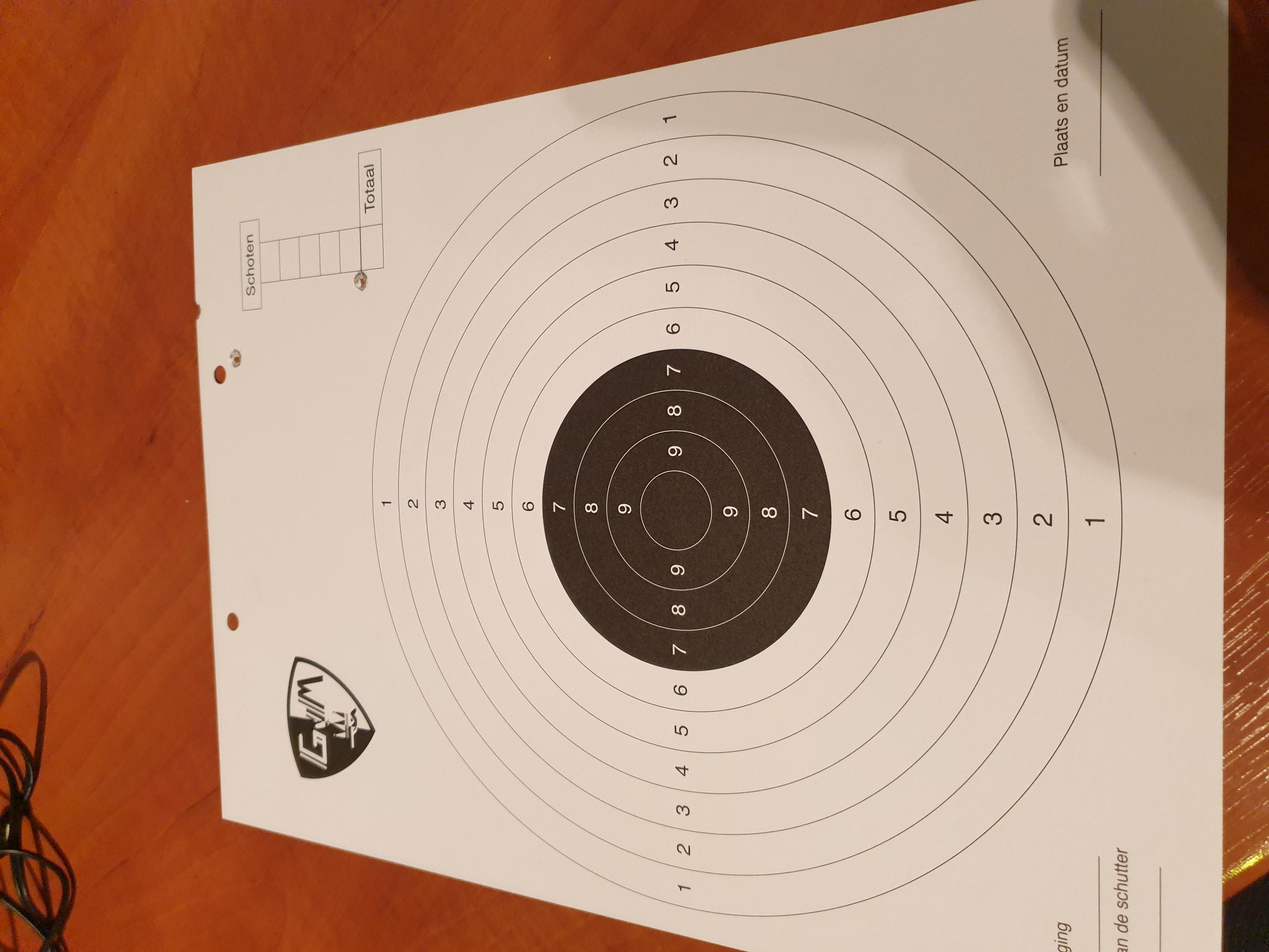hole: (878, 262, 911, 276), (775, 170, 806, 184), (843, 146, 867, 151)
